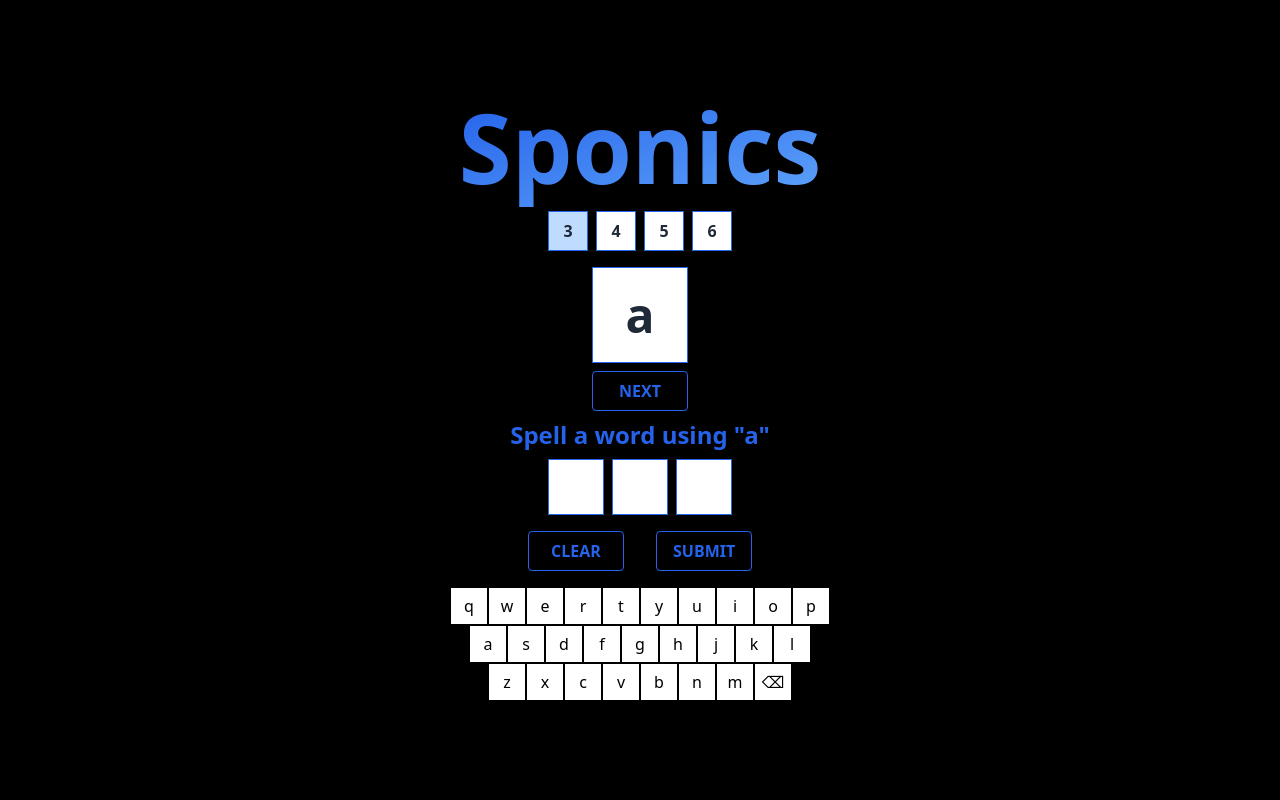
Test: User types guess › Results shows 'Not a word, try again...' message and color compoent red when word is spelt incorrectly but is correct length and contains sound
The image size is (1280, 800).
Expected: the text with test id "sound" reads "a", [592, 267, 688, 363]
Click the button with test id "wordLength4" at [616, 231], box [596, 211, 636, 251]
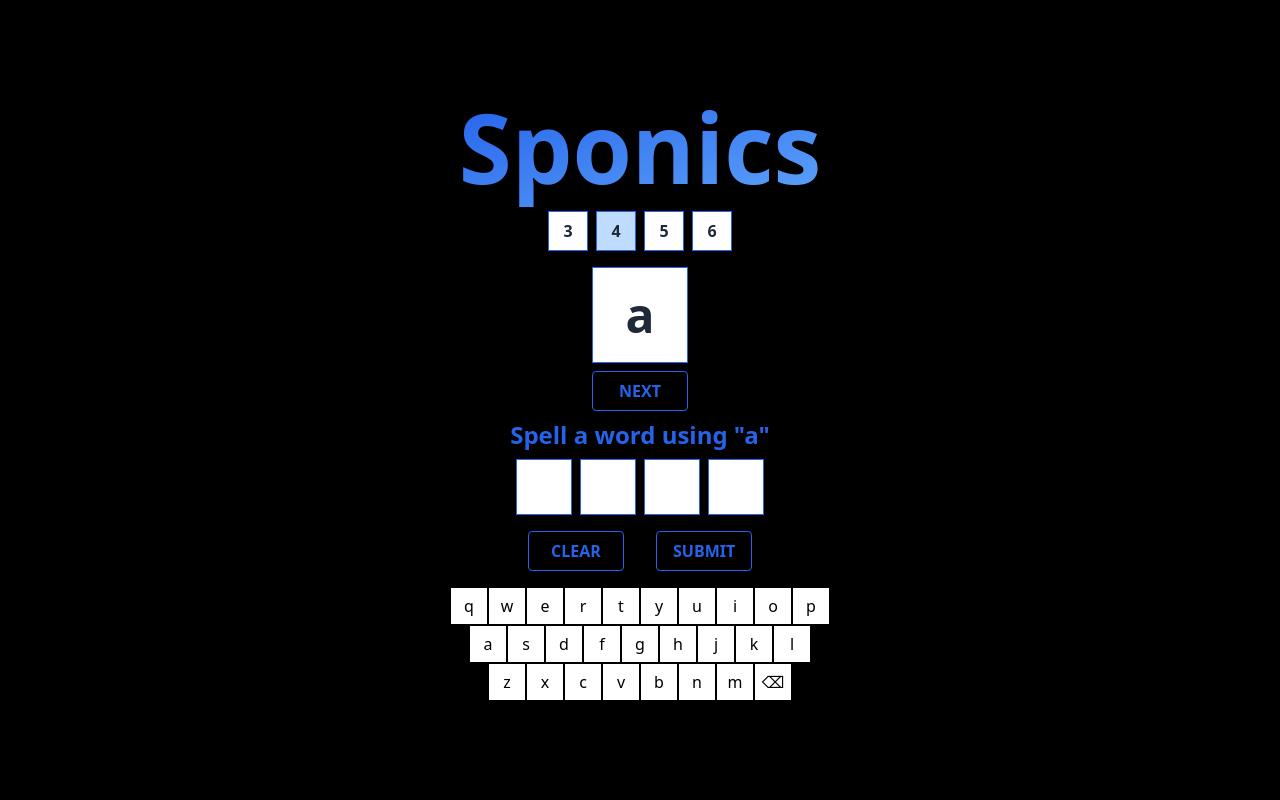
Press a in the element with test id "mainContainer"
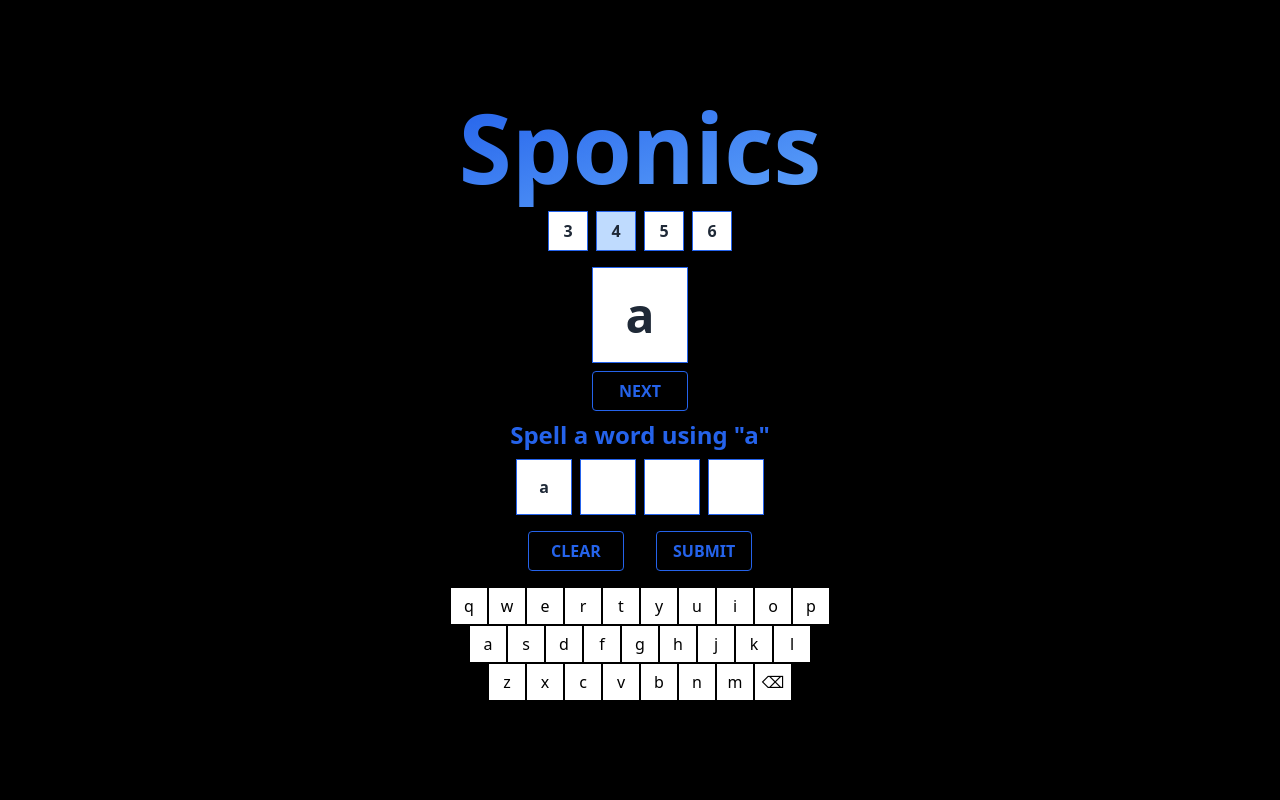
Press a in the element with test id "mainContainer"
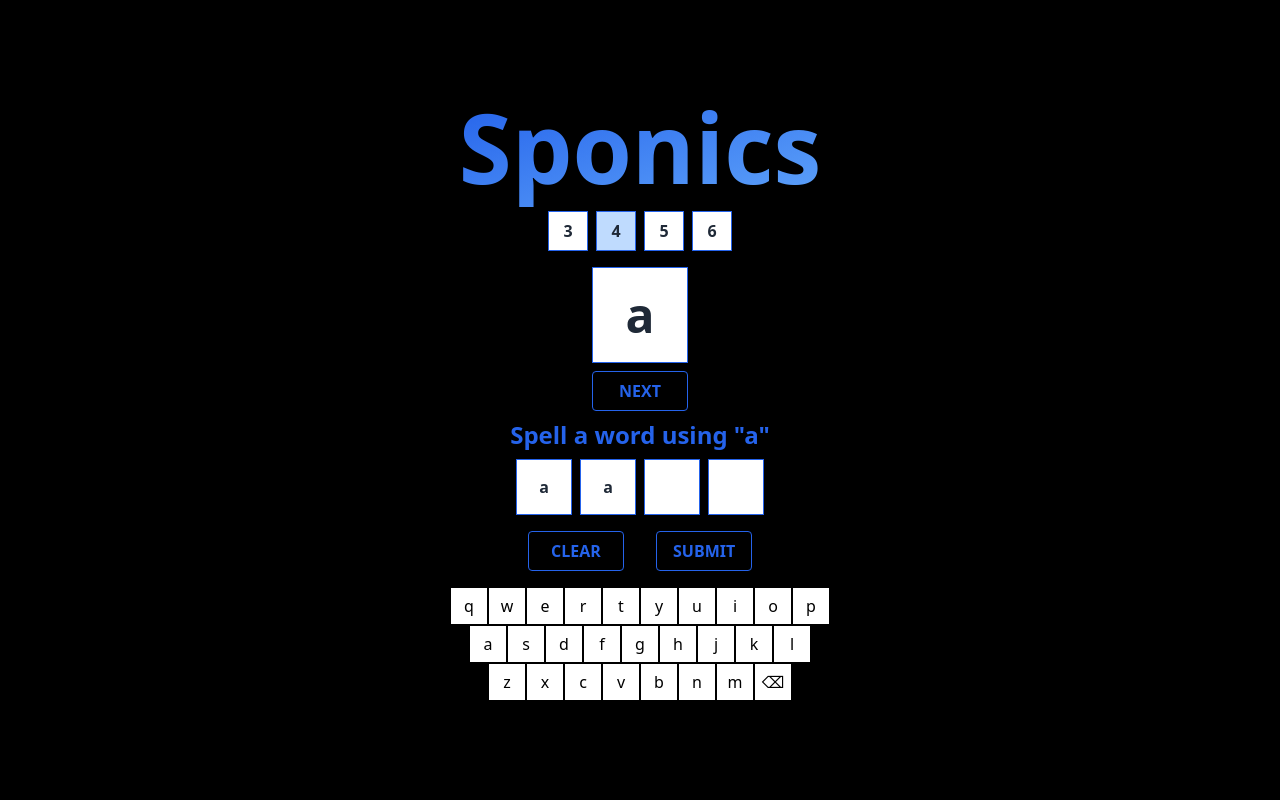
Press a in the element with test id "mainContainer"
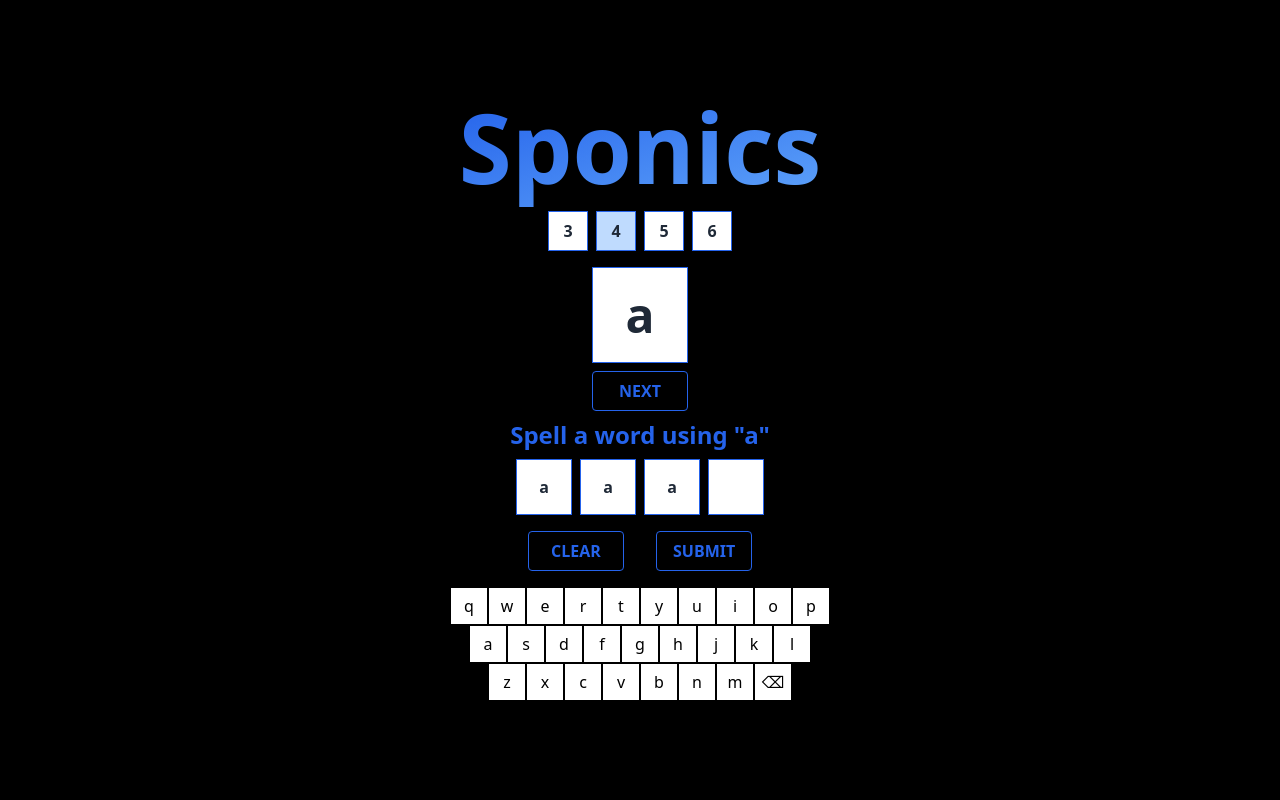
Press a in the element with test id "mainContainer"
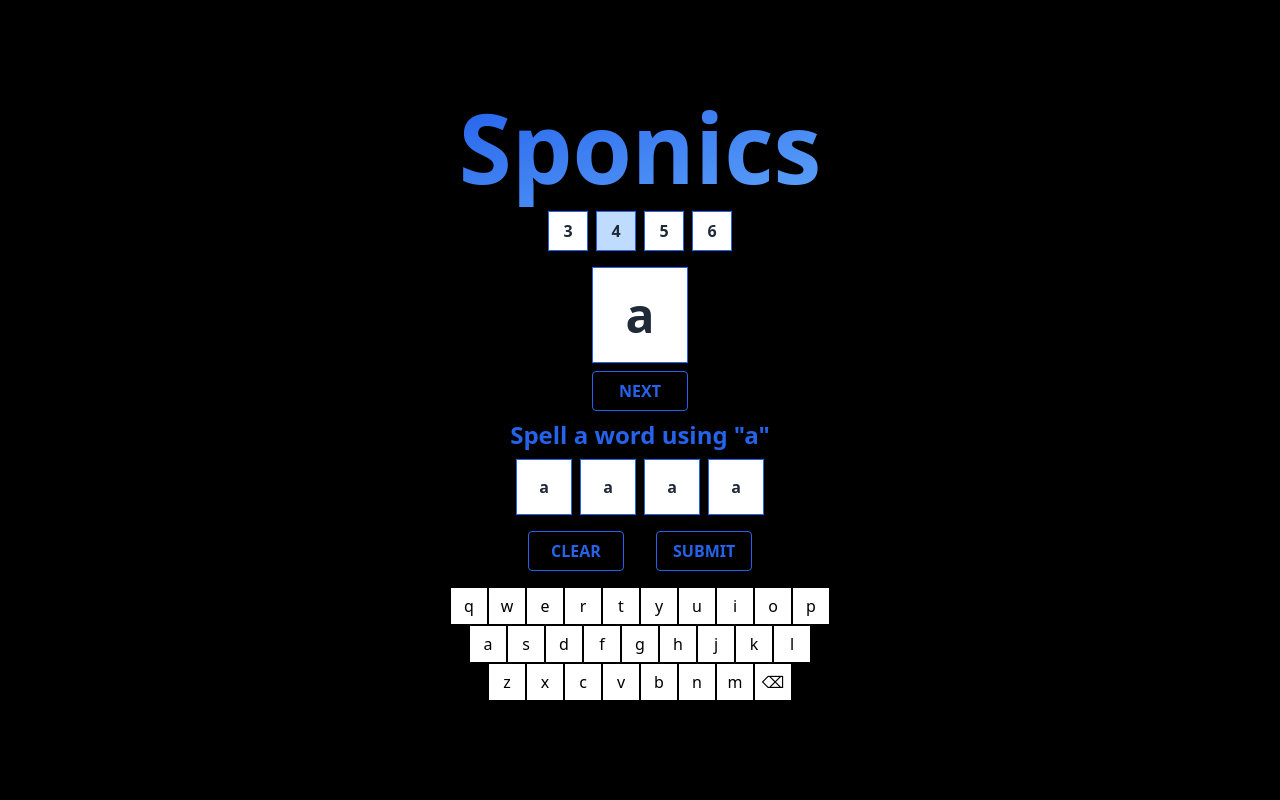
Click the button with test id "submitButton" at [704, 551], box [656, 531, 752, 571]
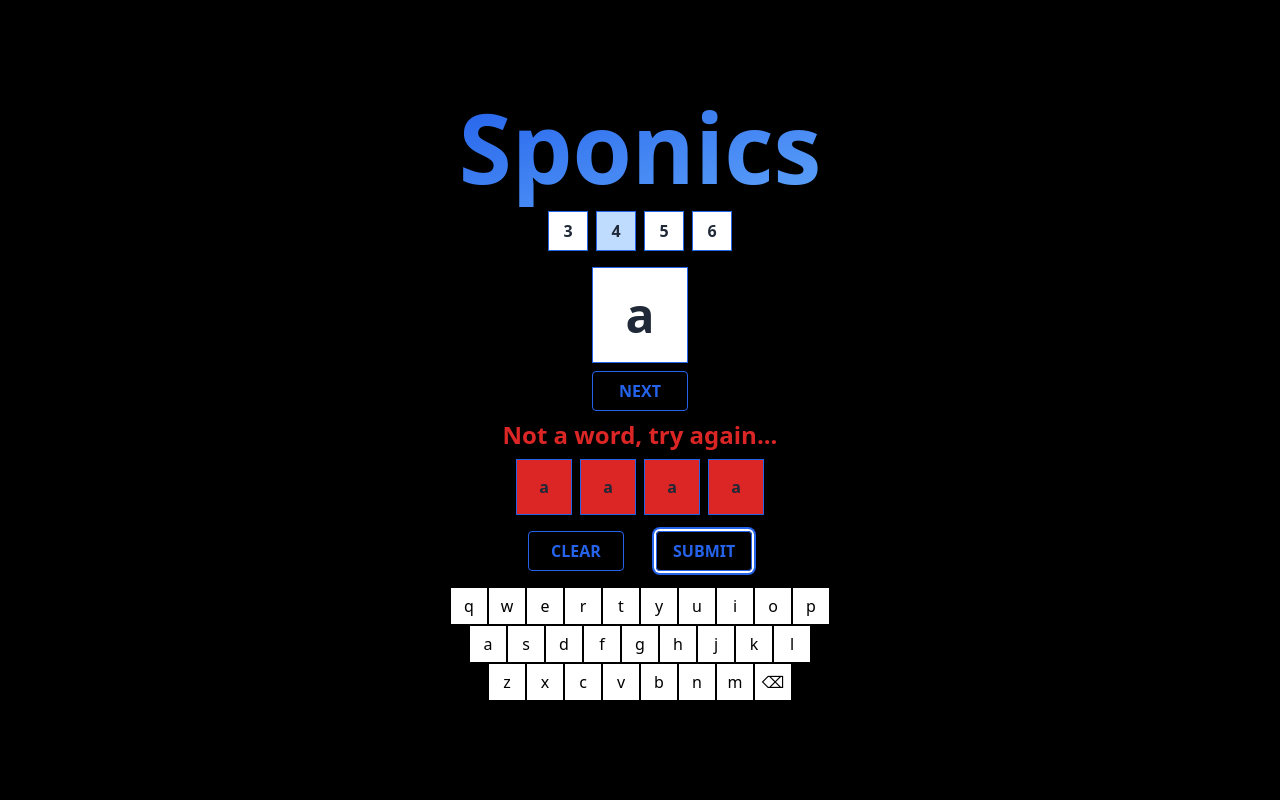
Now the text with test id "guessLetter1" reads "a", box [516, 459, 572, 515]
Now the text with test id "guessLetter2" reads "a", box [580, 459, 636, 515]
Now the heading with test id "resultMessage" reads "Not a word, try again...", box [503, 419, 778, 451]
